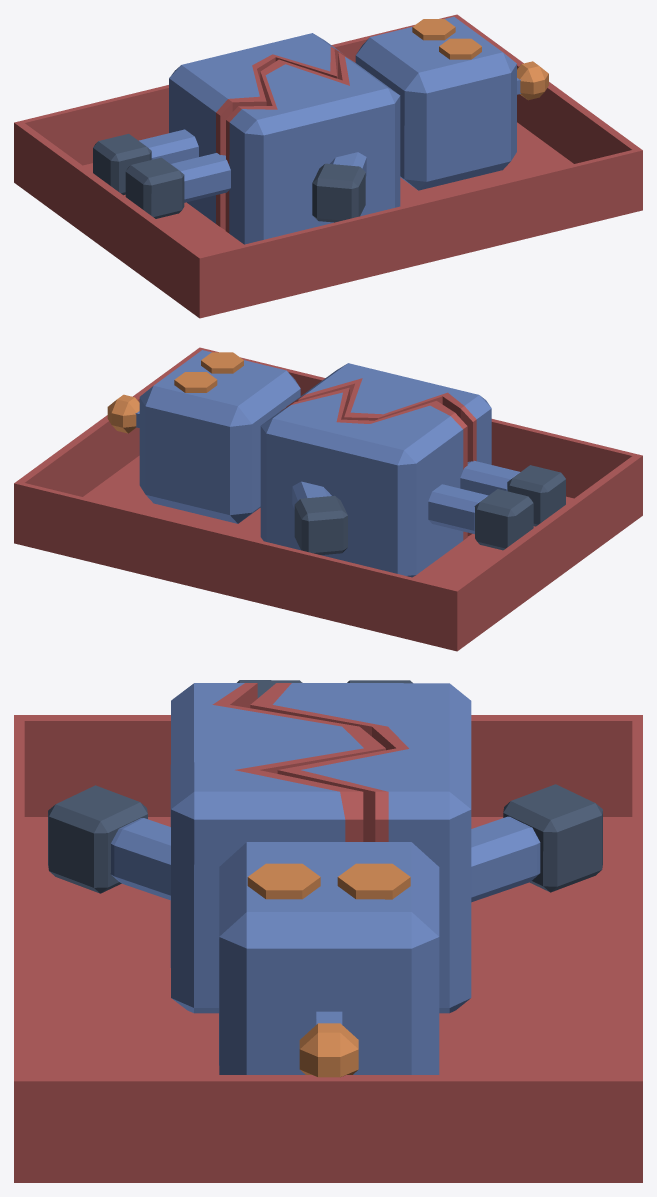
The model's file is RobotOrderRed.fbx.
The picture shows the model from 3 angles, top to bottom: view 1: azimuth 30°, elevation 25°; view 2: azimuth 150°, elevation 25°; view 3: azimuth 270°, elevation 25°; orthographic projection. The views are drawn at different scales.
Visible parts, largest first — view 1: RobotOrderRed, StandRed; view 2: RobotOrderRed, StandRed; view 3: StandRed, RobotOrderRed.
Part boxes in pixels (bbox=[...]): RobotOrderRed: bbox=[93, 17, 548, 244]; StandRed: bbox=[14, 14, 642, 318]; RobotOrderRed: bbox=[107, 350, 565, 577]; StandRed: bbox=[14, 347, 642, 651]; StandRed: bbox=[14, 715, 642, 1182]; RobotOrderRed: bbox=[48, 680, 602, 1077].
Bounding box in the file's own units: 45.82 × 13.1 × 33.25.
